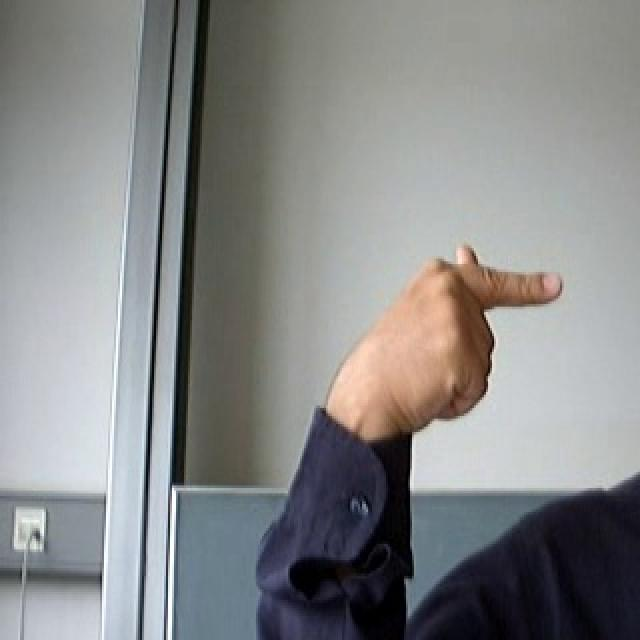T: (317, 227, 574, 448)
